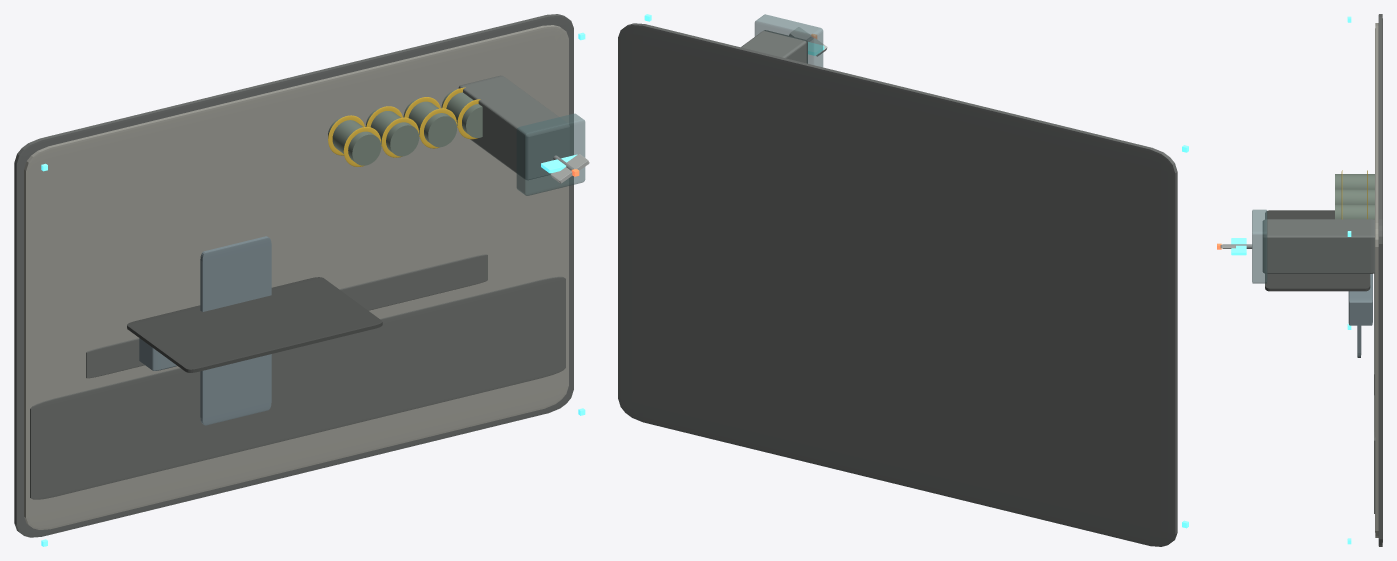
Rendered from b-21-advanced-airfield-lod1.glb.
3 renders of one model, left to right at view 1: azimuth 30°, elevation 25°; view 2: azimuth 150°, elevation 25°; view 3: azimuth 270°, elevation 25°, orthographic. The views are drawn at different scales.
Visible parts, largest first — view 1: foundation_inner_pad, advanced_runway_road, foundation, strategic_hangar_door, heavy_aircraft_wing, tower_main, advanced_taxiway_road, tower_glass, advanced_fuel_0_vessel, advanced_fuel_1_vessel, advanced_fuel_2_vessel, advanced_fuel_3_vessel; view 2: foundation, tower_glass, tower_main; view 3: tower_main, foundation, strategic_hangar_door, foundation_inner_pad, tower_glass, heavy_aircraft_fuselage, advanced_fuel_2_vessel, advanced_fuel_0_vessel, advanced_fuel_1_vessel, advanced_radar_array_0.
Part boxes in pixels (<box>): foundation_inner_pad: <box>24,25,568,529</box>; advanced_runway_road: <box>30,276,565,499</box>; foundation: <box>14,14,573,537</box>; strategic_hangar_door: <box>127,277,382,372</box>; heavy_aircraft_wing: <box>200,236,271,425</box>; tower_main: <box>458,75,569,179</box>; advanced_taxiway_road: <box>86,254,487,378</box>; tower_glass: <box>516,113,585,195</box>; advanced_fuel_0_vessel: <box>328,117,381,165</box>; advanced_fuel_1_vessel: <box>365,107,419,156</box>; advanced_fuel_2_vessel: <box>403,98,456,147</box>; advanced_fuel_3_vessel: <box>441,89,482,137</box>; foundation: <box>618,23,1177,546</box>; tower_glass: <box>754,14,823,67</box>; tower_main: <box>741,30,807,63</box>; tower_main: <box>1263,219,1374,273</box>; foundation: <box>1378,14,1382,546</box>; strategic_hangar_door: <box>1265,210,1370,291</box>; foundation_inner_pad: <box>1375,23,1378,537</box>; tower_glass: <box>1252,209,1267,283</box>; heavy_aircraft_fuselage: <box>1348,274,1372,325</box>; advanced_fuel_2_vessel: <box>1335,204,1374,219</box>; advanced_fuel_0_vessel: <box>1335,174,1374,188</box>; advanced_fuel_1_vessel: <box>1335,189,1374,203</box>; advanced_radar_array_0: <box>1231,238,1246,255</box>.
Size of what is drawn, in the model's own units: 25 by 17 by 7.87.
